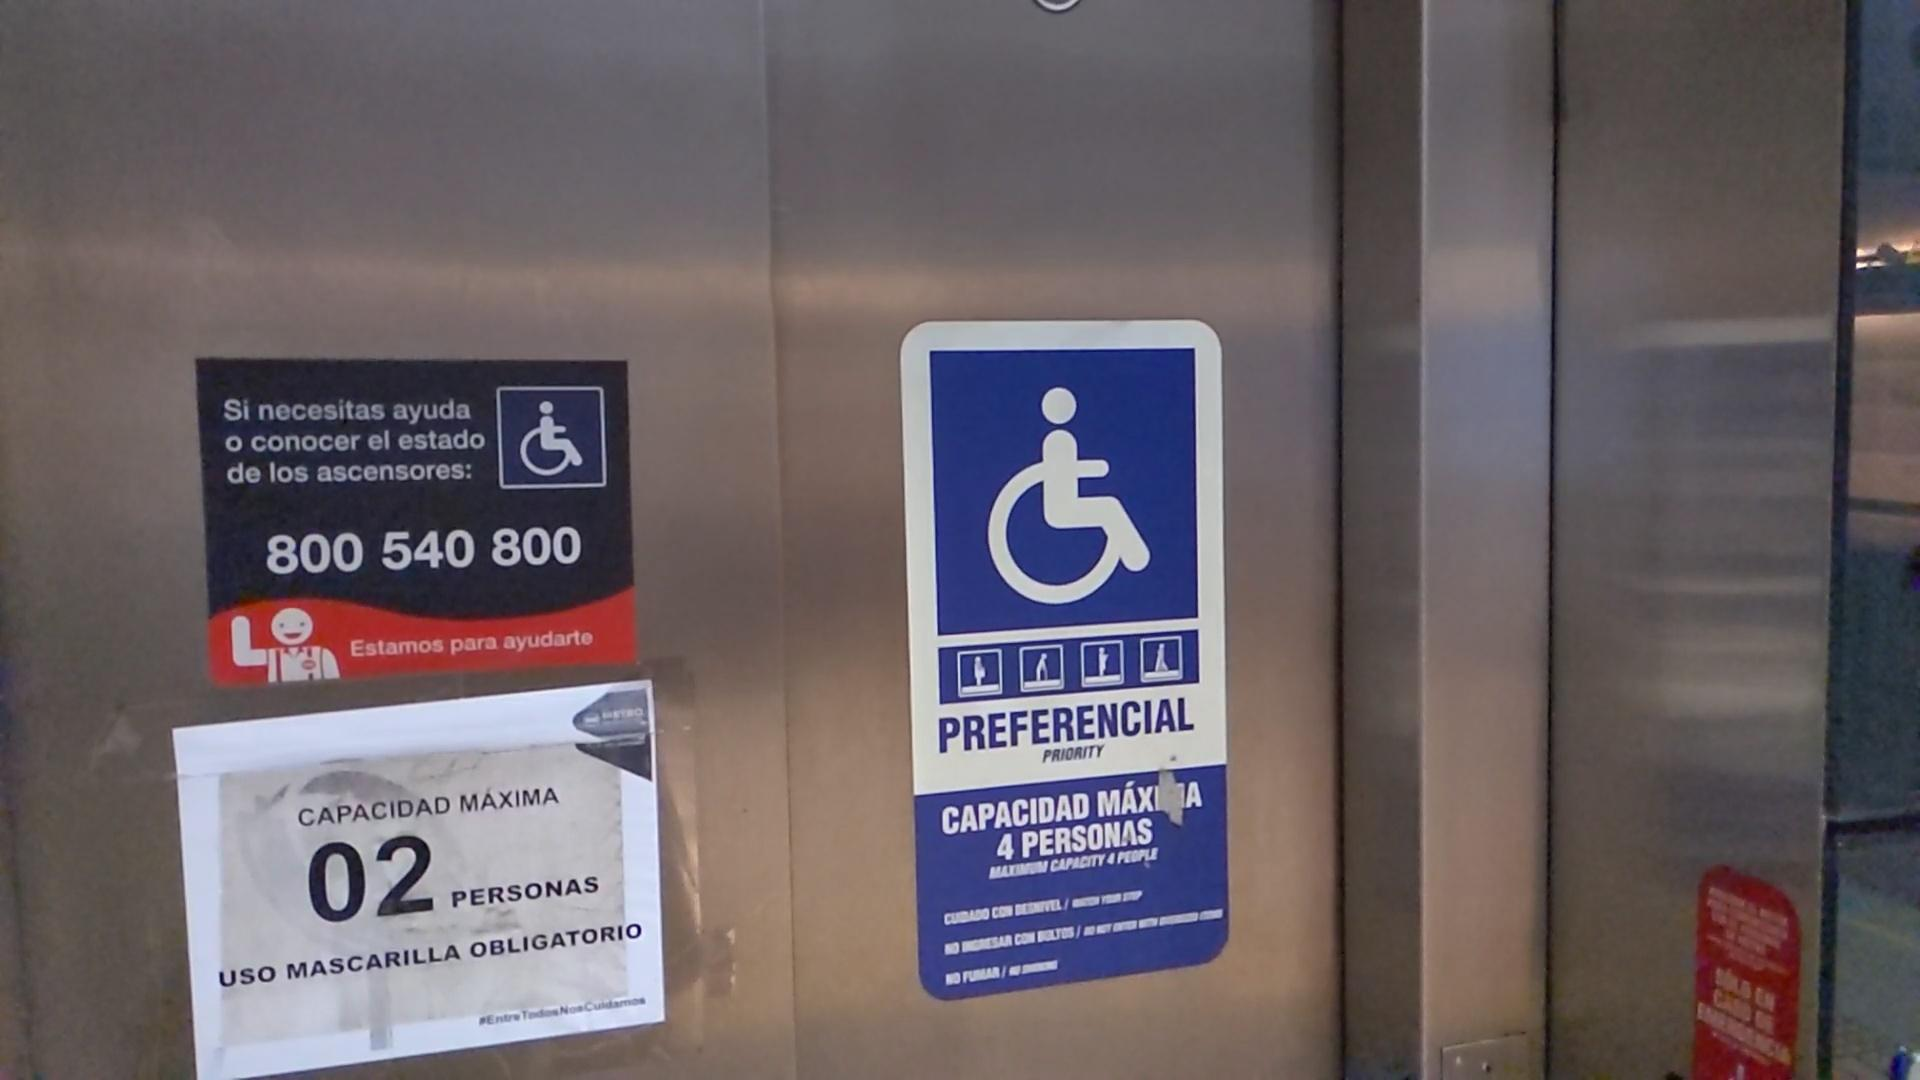handicapped symbol: (984, 386, 1155, 604), (517, 398, 587, 476)
